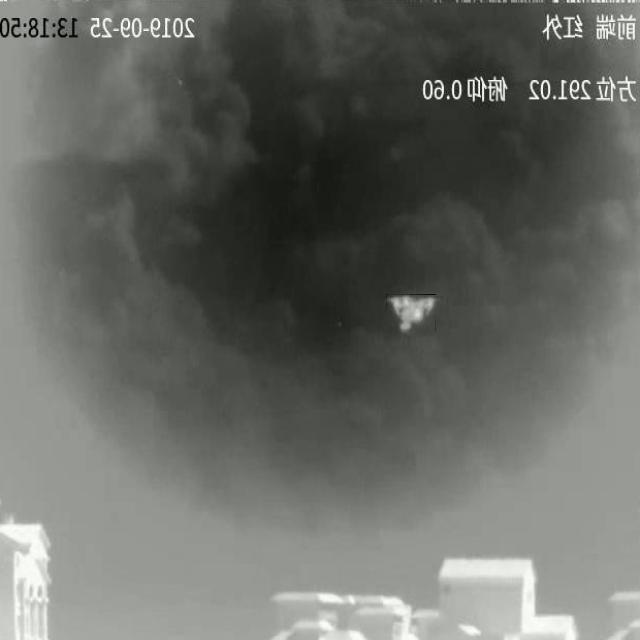drone: (386, 295, 436, 331)
